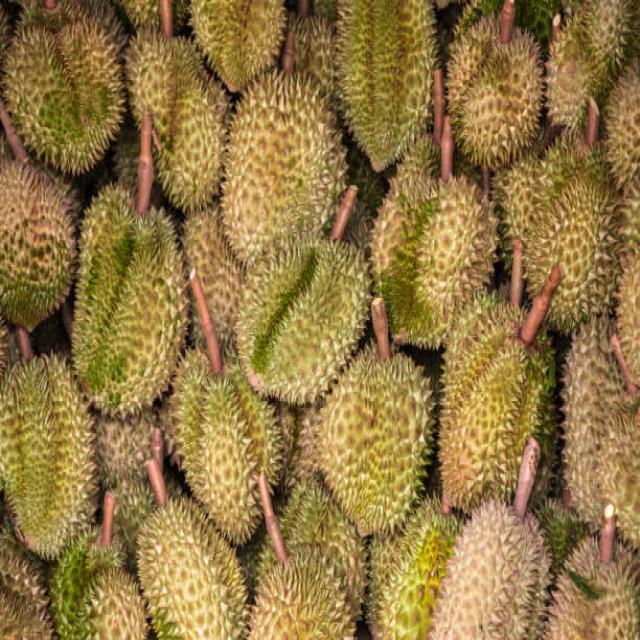mature: (222, 73, 346, 262), (430, 501, 551, 639), (446, 15, 542, 170)
